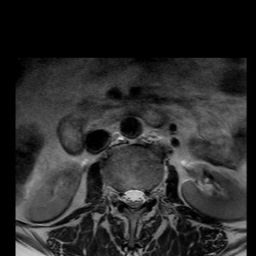CCS_normal: (130, 177, 138, 218)
LFS_normal: (147, 180, 155, 209)
LLS_normal: (138, 179, 147, 212)
RFS_normal: (114, 179, 122, 208)
RLS_normal: (122, 180, 130, 211)
